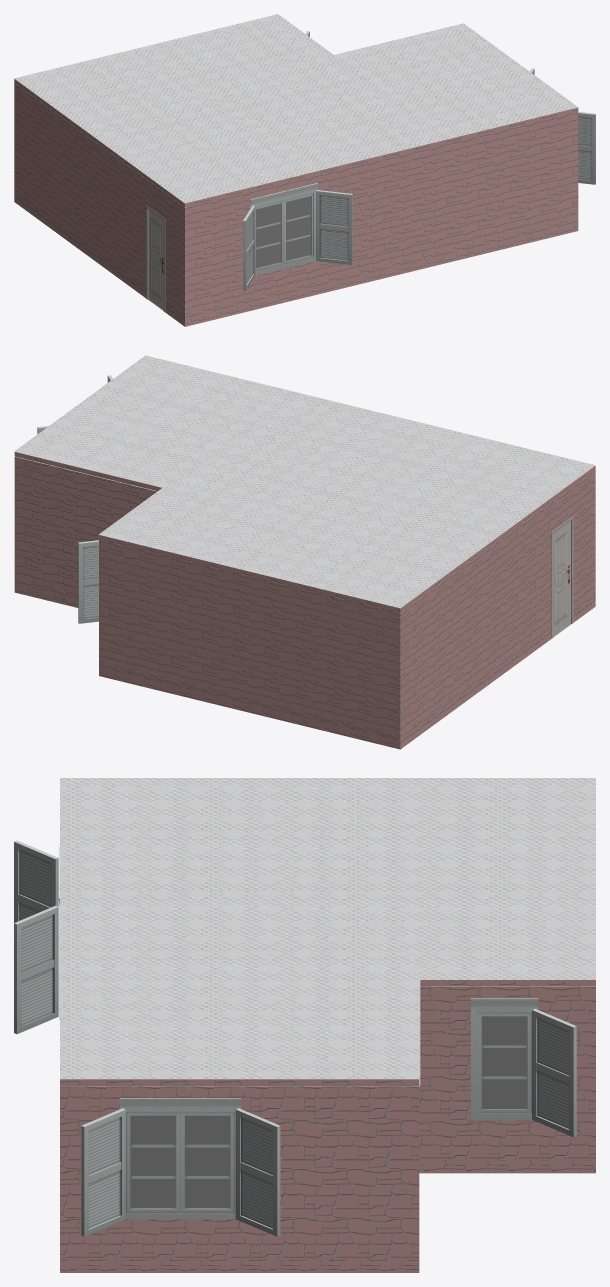
Rendered from house_0100000.FBX.
3 renders of one model, top to bottom at view 1: azimuth 30°, elevation 25°; view 2: azimuth 150°, elevation 25°; view 3: azimuth 270°, elevation 25°, orthographic. The views are drawn at different scales.
Parts seen in each view (by area): view 1: house_0100000_roof_100_00, house_0100000_outwall_100_05, house_0100000_outwall_100_00, house_0100000_floor_101_00, house_0100000_tcx_100_05, house_0100000_outwall_101_00, house_0100000_tcx_100_00, house_0100000_floor_102_00; view 2: house_0100000_roof_100_00, house_0100000_outwall_100_01, house_0100000_outwall_100_00, house_0100000_outwall_100_03, house_0100000_tcx_100_01, house_0100000_outwall_101_00, house_0100000_tcx_100_00, house_0100000_floor_103_00, house_0100000_tcx_100_03; view 3: house_0100000_roof_100_00, house_0100000_outwall_100_04, house_0100000_floor_102_00, house_0100000_outwall_100_02, house_0100000_floor_103_00, house_0100000_floor_101_00, house_0100000_tcx_100_04, house_0100000_tcx_100_02.
Boxes of the visible parts, x1=… form: house_0100000_roof_100_00: x1=14, y1=14, x2=578, y2=207; house_0100000_outwall_100_05: x1=185, y1=108, x2=578, y2=318; house_0100000_outwall_100_00: x1=14, y1=79, x2=184, y2=317; house_0100000_floor_101_00: x1=148, y1=183, x2=352, y2=310; house_0100000_tcx_100_05: x1=185, y1=222, x2=578, y2=326; house_0100000_outwall_101_00: x1=146, y1=205, x2=165, y2=312; house_0100000_tcx_100_00: x1=14, y1=194, x2=184, y2=326; house_0100000_floor_102_00: x1=530, y1=68, x2=595, y2=184; house_0100000_roof_100_00: x1=14, y1=355, x2=595, y2=608; house_0100000_outwall_100_01: x1=99, y1=535, x2=400, y2=739; house_0100000_outwall_100_00: x1=400, y1=466, x2=595, y2=739; house_0100000_outwall_100_03: x1=14, y1=452, x2=161, y2=598; house_0100000_tcx_100_01: x1=99, y1=666, x2=400, y2=749; house_0100000_outwall_101_00: x1=551, y1=516, x2=573, y2=638; house_0100000_tcx_100_00: x1=400, y1=597, x2=595, y2=749; house_0100000_floor_103_00: x1=78, y1=540, x2=98, y2=623; house_0100000_tcx_100_03: x1=14, y1=583, x2=78, y2=607; house_0100000_roof_100_00: x1=60, y1=778, x2=595, y2=1086; house_0100000_outwall_100_04: x1=60, y1=1079, x2=419, y2=1259; house_0100000_floor_102_00: x1=81, y1=1098, x2=280, y2=1236; house_0100000_outwall_100_02: x1=419, y1=980, x2=595, y2=1159; house_0100000_floor_103_00: x1=471, y1=998, x2=576, y2=1137; house_0100000_floor_101_00: x1=14, y1=840, x2=59, y2=1034; house_0100000_tcx_100_04: x1=60, y1=1259, x2=419, y2=1272; house_0100000_tcx_100_02: x1=419, y1=1160, x2=595, y2=1173.
Size of the model in its own units: 1031 by 290 by 791.
36 materials, 36 textured.
